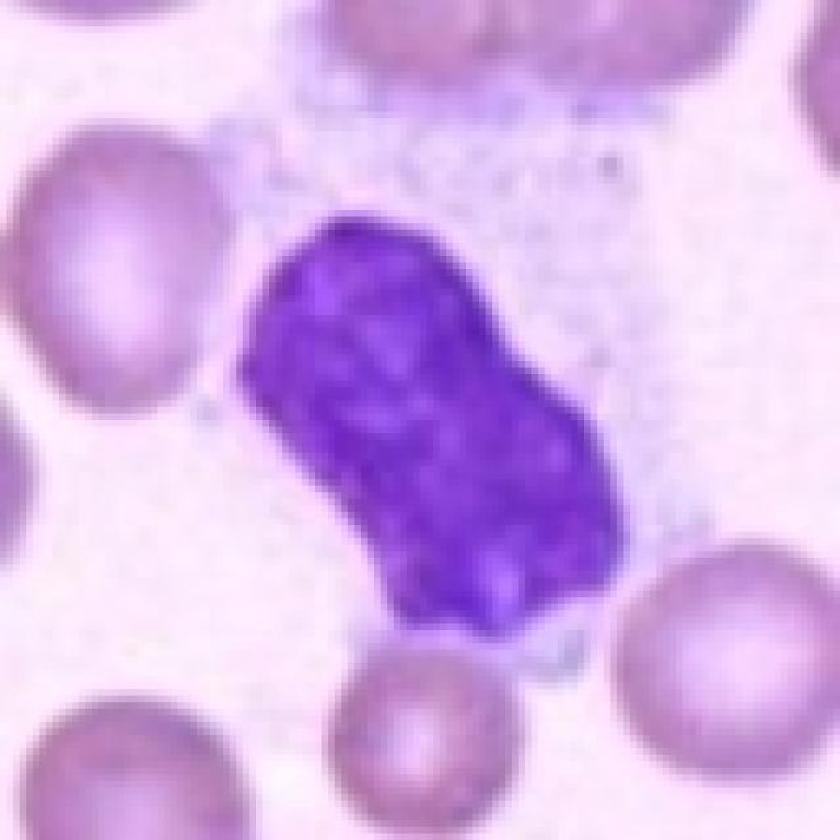lymphocyte: (165, 164, 730, 688)
